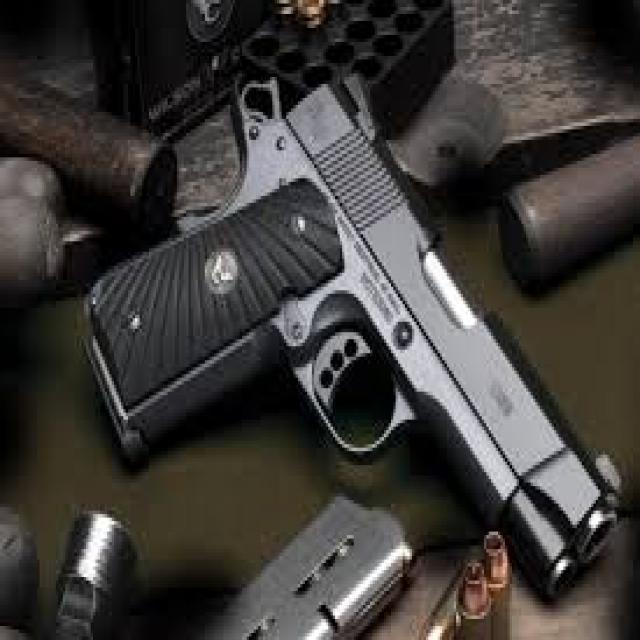semi automatic: (63, 41, 632, 620)
